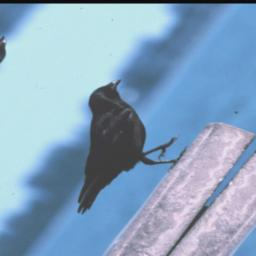Crow: (11, 71, 219, 232)
